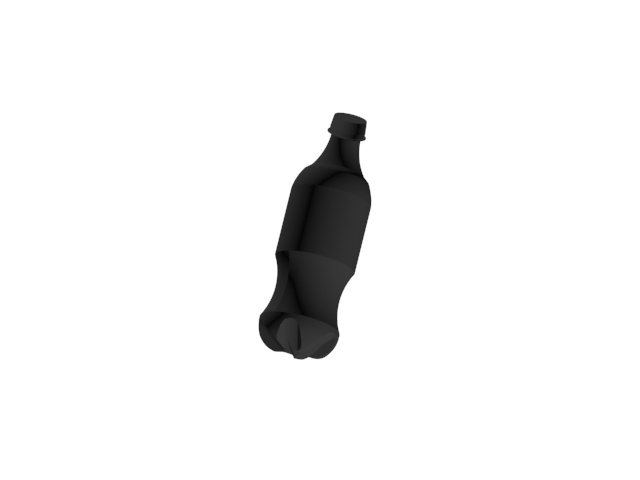bottle: (257, 113, 376, 360)
